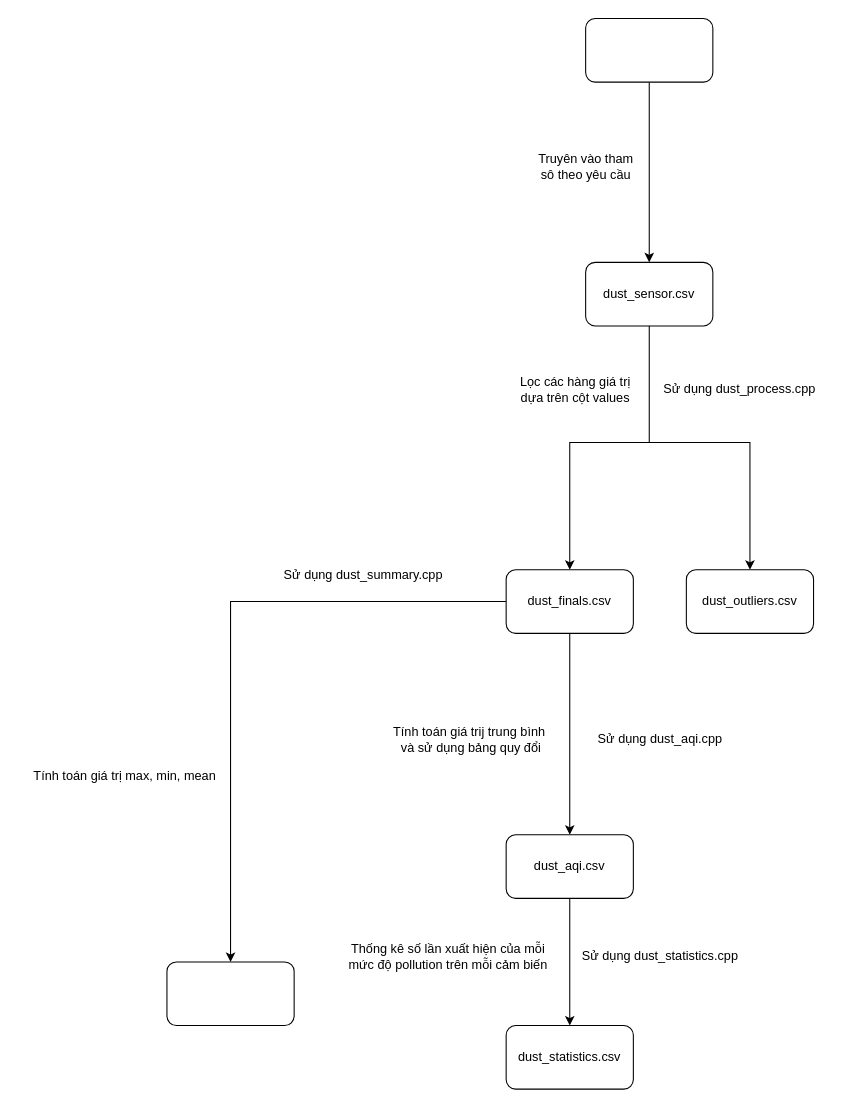
The diagram is 847 pixels wide and 1108 high, and some of its shapes have lost their labels. Each missing label, with the centre of its shape:
dust_sim.cpp: the point at 649,49
dust_summary.csv: the point at 230,993
